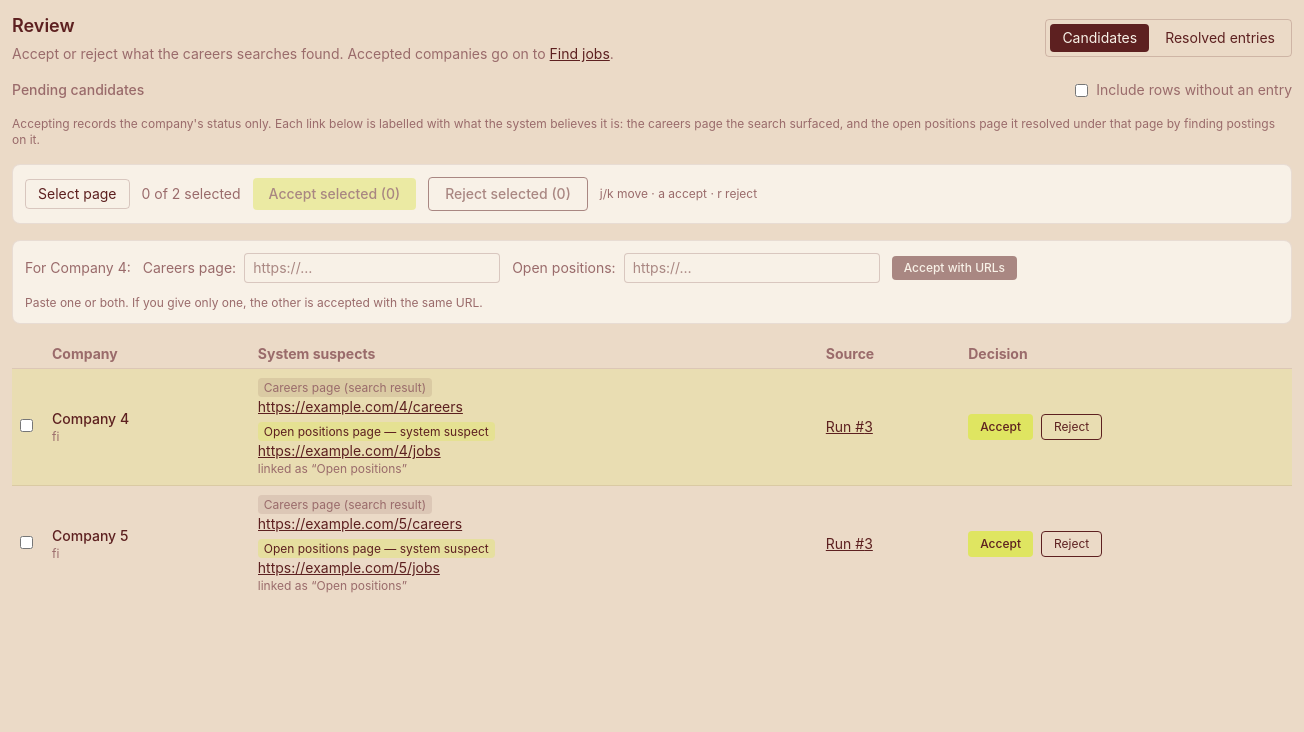
Test: demo review screen › shows resolved entries read-only, with the run that resolved them
expect the text "Company 4" is shown: met, box top-left (52, 410), bottom-right (129, 427)
Click the tab "Resolved entries": coordinates (1220, 38) top-left (1153, 24), bottom-right (1287, 52)
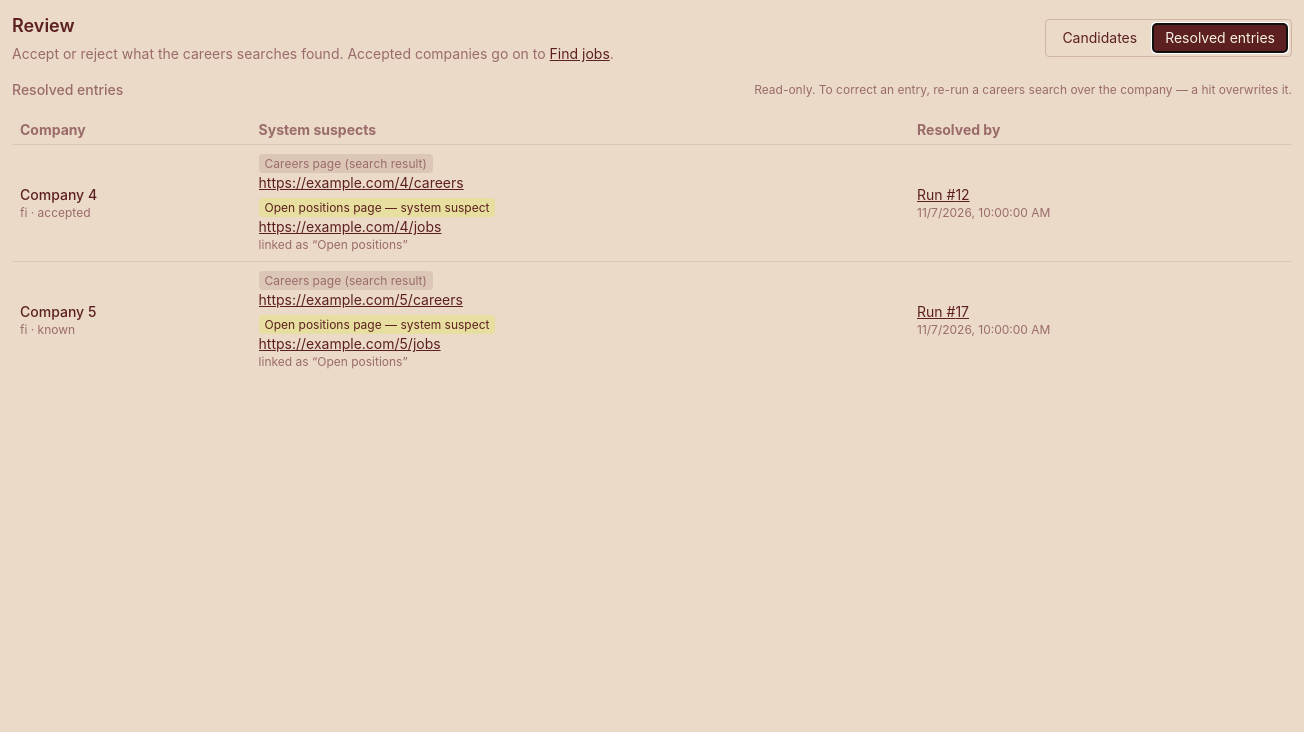
expect the text "Company 5" is shown: met, box top-left (20, 303), bottom-right (96, 320)
expect the button "Accept selected" is gone: met
